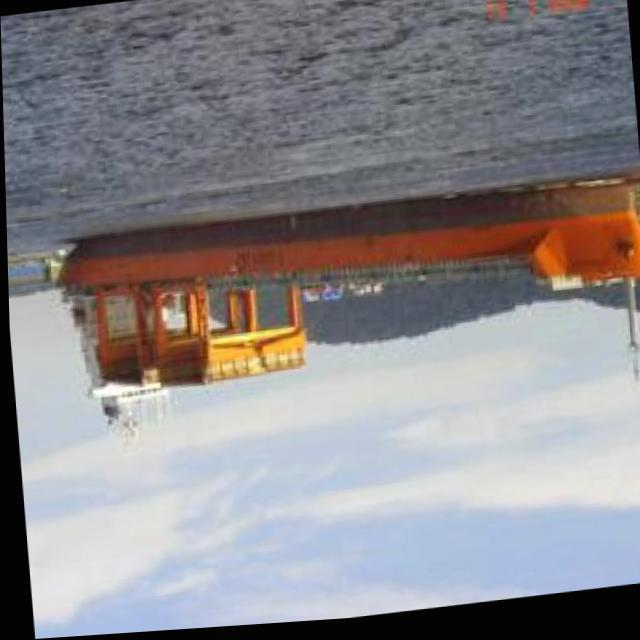ship2: (55, 182, 640, 400)
